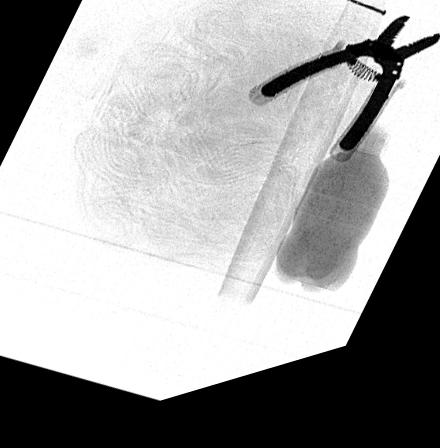Pliers: (257, 38, 440, 176)
